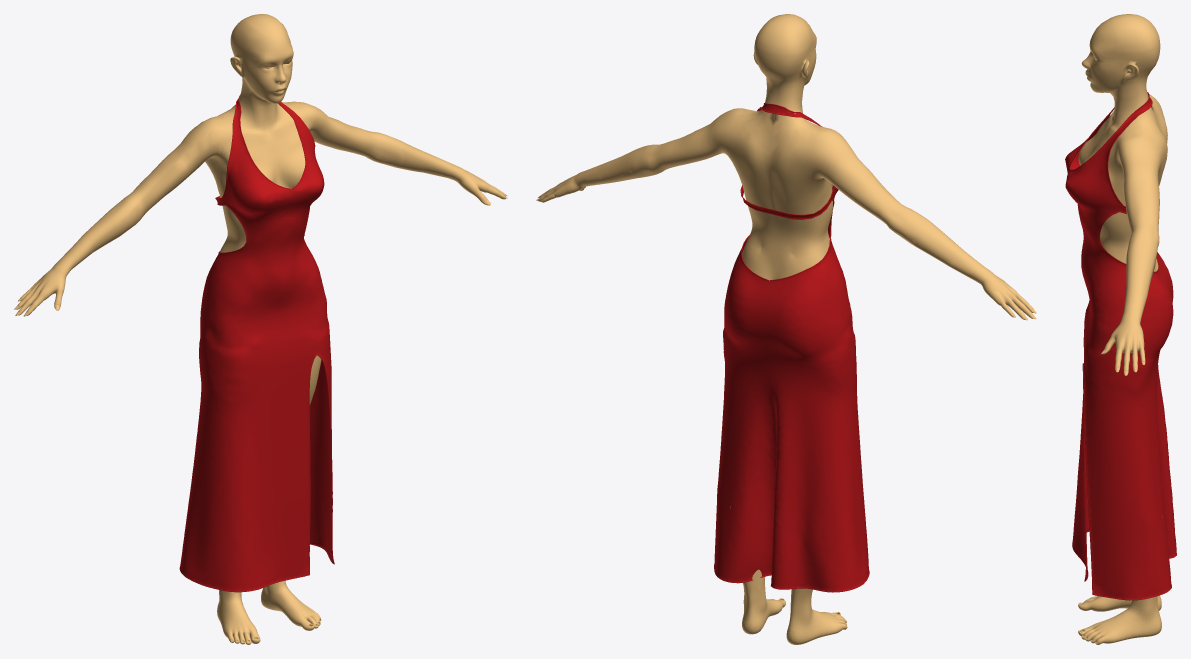
Rendered from dress3.glb.
The picture shows the model from 3 angles, left to right: view 1: azimuth 30°, elevation 25°; view 2: azimuth 150°, elevation 25°; view 3: azimuth 270°, elevation 25°; orthographic projection.
Parts seen in each view (by area): view 1: EveningDress, Body; view 2: EveningDress, Body; view 3: EveningDress, Body.
Part boxes in pixels (x1=…): EveningDress: x1=179, y1=94, x2=334, y2=592; Body: x1=16, y1=14, x2=506, y2=644; EveningDress: x1=714, y1=103, x2=869, y2=592; Body: x1=538, y1=14, x2=1033, y2=644; EveningDress: x1=1065, y1=92, x2=1176, y2=600; Body: x1=1078, y1=14, x2=1167, y2=644.
Bounding box in the file's own units: 1.58 × 1.85 × 0.3089.
